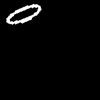chain: (7, 4, 40, 23)
